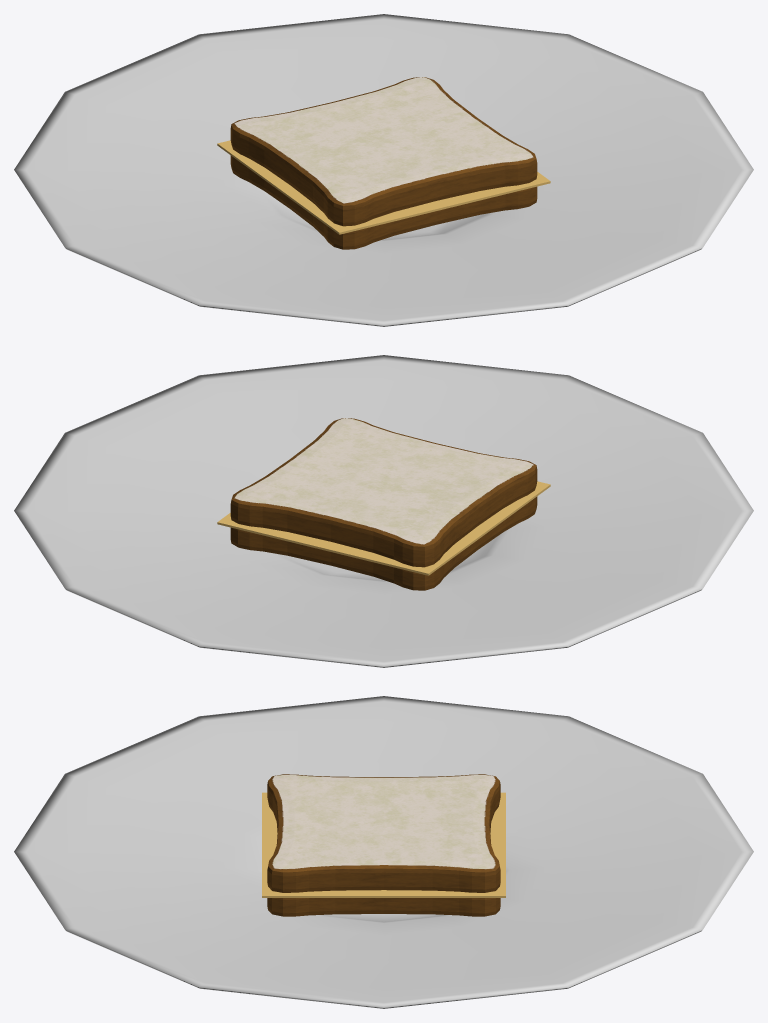
File: toast.fbx
3 views of the same model, one above another, from view 1: azimuth 30°, elevation 25°; view 2: azimuth 150°, elevation 25°; view 3: azimuth 270°, elevation 25° (orthographic).
Visible parts, largest first — view 1: Plate, Toast, Cheese; view 2: Plate, Toast, Cheese; view 3: Plate, Toast, Cheese.
Part boxes in pixels (bbox=[...]): Plate: bbox=[14, 14, 753, 326]; Toast: bbox=[230, 77, 537, 249]; Cheese: bbox=[217, 140, 550, 234]; Plate: bbox=[14, 355, 753, 667]; Toast: bbox=[230, 418, 537, 590]; Cheese: bbox=[217, 481, 550, 575]; Plate: bbox=[14, 696, 753, 1008]; Toast: bbox=[267, 774, 500, 916]; Cheese: bbox=[262, 792, 505, 897].
Bounding box in the file's own units: 15.68 × 1.66 × 15.75.
